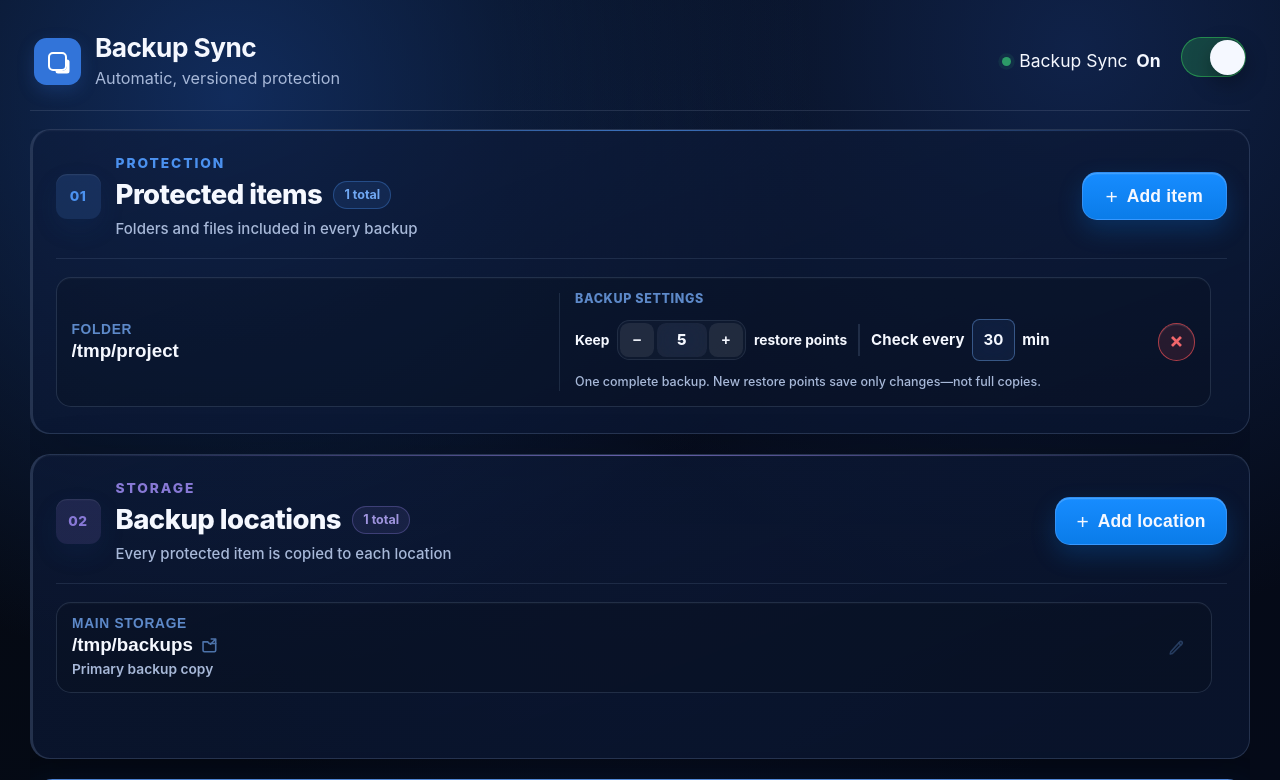
Test: MinimalMain › confirms and safely migrates main storage before changing its path
Check: the heading "Backup locations" is shown, box [115,500,341,541]
Click the button named "Change main storage".
click(633, 648)  # box [56,603,1210,692]
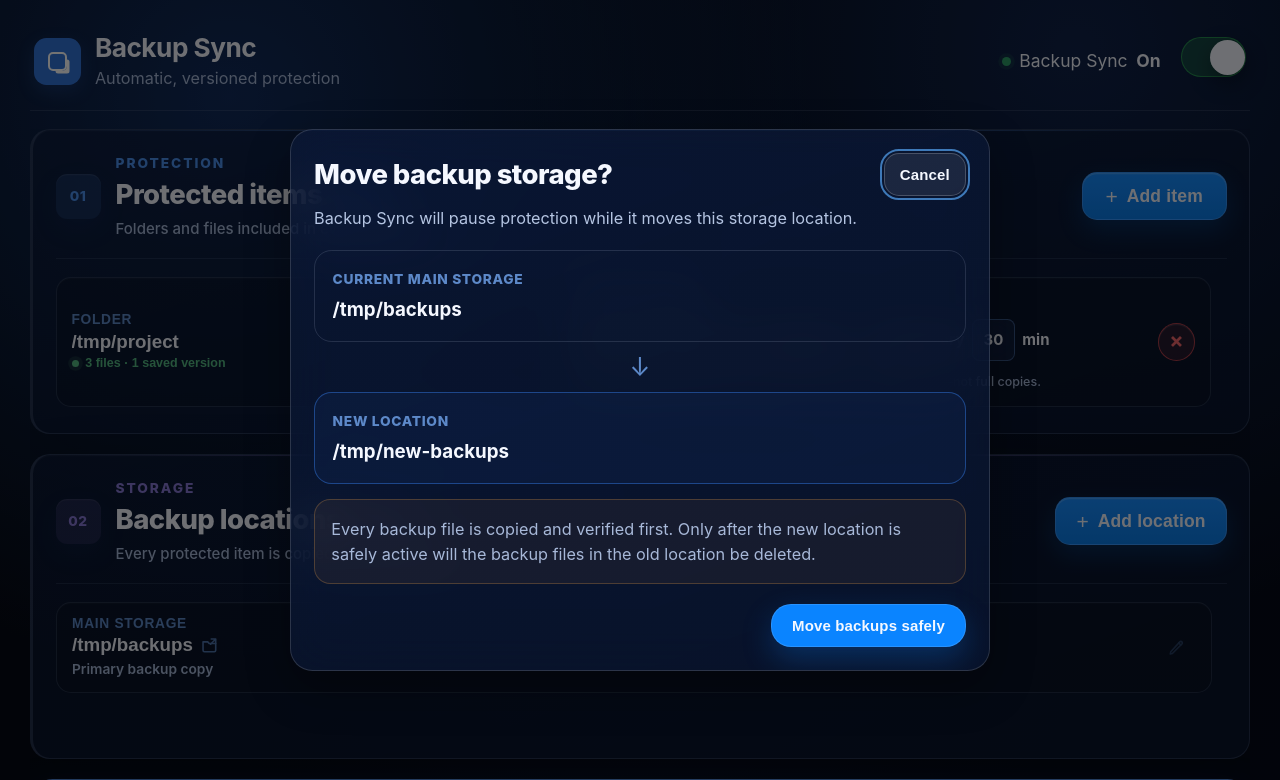
Check: the text "/tmp/backups" is shown 2 times, box [71,634,192,656]; [333,298,462,321]
Check: the heading "Move backup storage?" is shown, box [314,154,612,195]
Check: the text "/tmp/new-backups" is shown, box [333,440,509,463]
Click the button "Move backups safely".
click(868, 625)  # box [771,604,966,647]
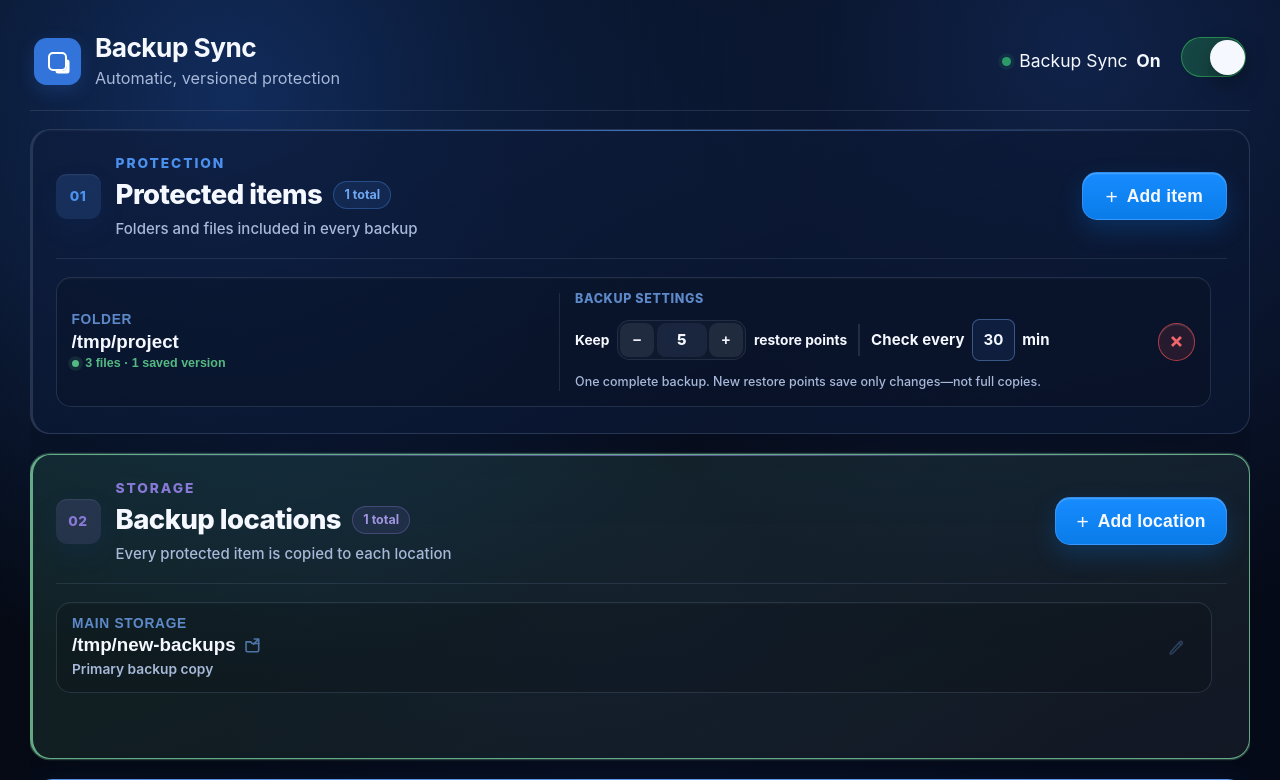
Check: the text "/tmp/new-backups" is shown, box [71,634,235,656]
Check: the heading "Move backup storage?" is gone
